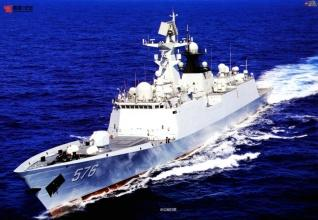warship: (11, 7, 282, 210)
